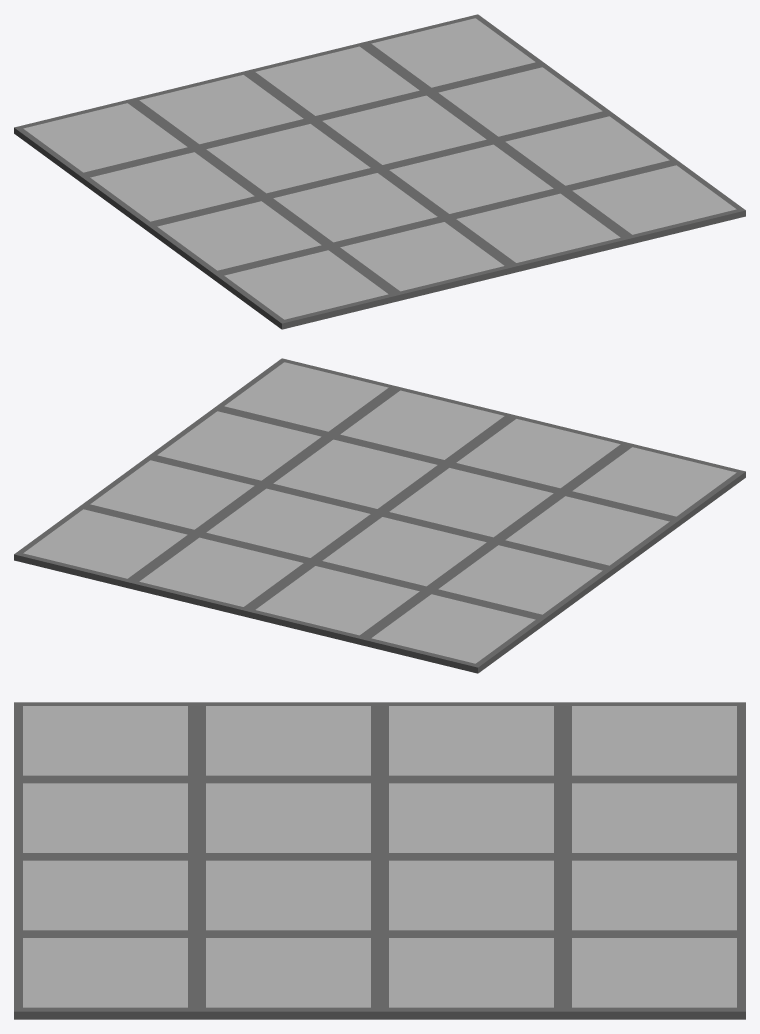
File: ceiling_01_L.dae
3 renders of one model, top to bottom at view 1: azimuth 30°, elevation 25°; view 2: azimuth 150°, elevation 25°; view 3: azimuth 270°, elevation 25°, orthographic. The views are drawn at different scales.
Visible parts, largest first — view 1: Untitled; view 2: Untitled; view 3: Untitled.
Part boxes in pixels (left/top/right/bottom): Untitled: left=14, top=14, right=745, bottom=329; Untitled: left=14, top=358, right=745, bottom=673; Untitled: left=14, top=702, right=745, bottom=1019.
Bounding box in the file's own units: 2.4 × 2.4 × 0.03.
Materials: 1 (1 with a texture image).
